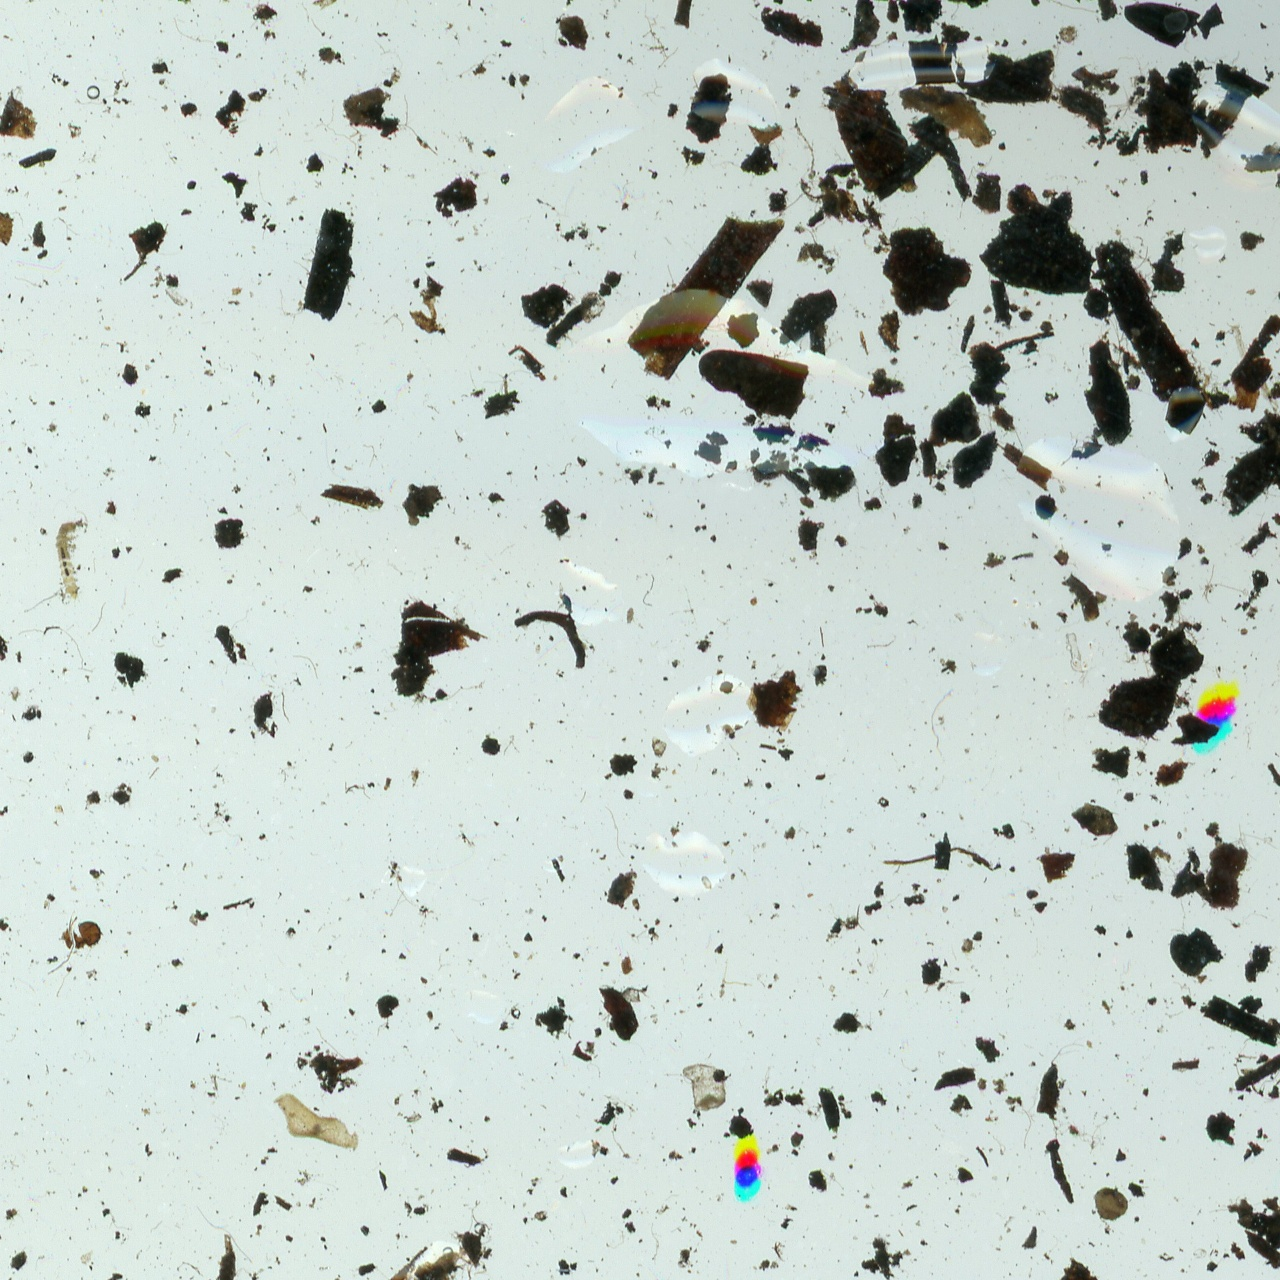arthropod: (55, 520, 82, 601)
